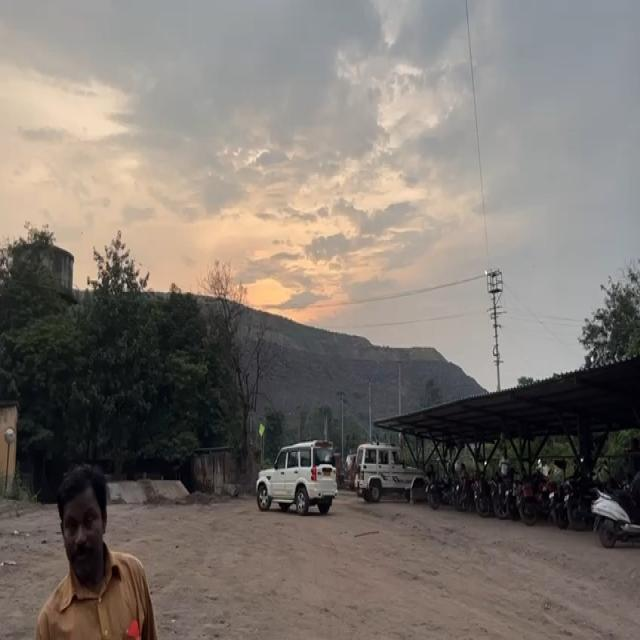light_vehicle: (256, 440, 336, 514), (352, 440, 429, 504)
